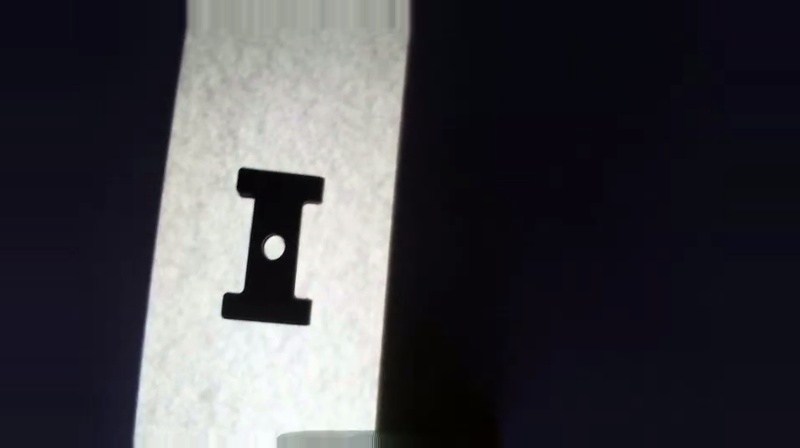O002: (215, 164, 330, 330)
